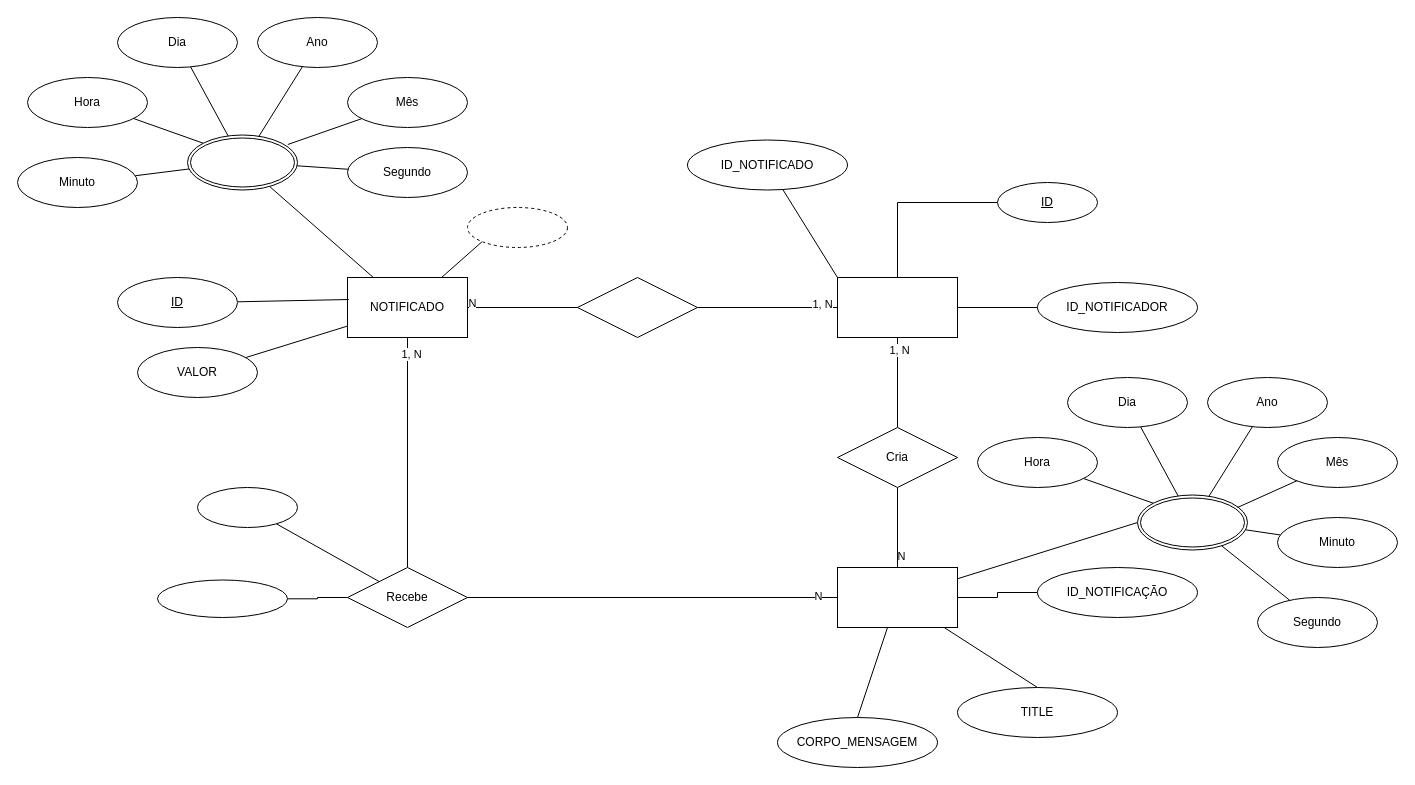
This 1415x785 diagram has some shape labels left out. The shapes that lost their labels are listed below. From the top down, each one's centre as x and y in pixels, then its label:
(x=242, y=162): ASSINADO_EM
(x=517, y=227): ID_USUÁRIO
(x=637, y=307): Escuta
(x=897, y=307): NOTIFICADOR
(x=247, y=507): LIDO
(x=1192, y=522): CRIADO_EM
(x=222, y=598): ID_RECEBIMENTO
(x=897, y=597): NOTIFICAÇÃO
